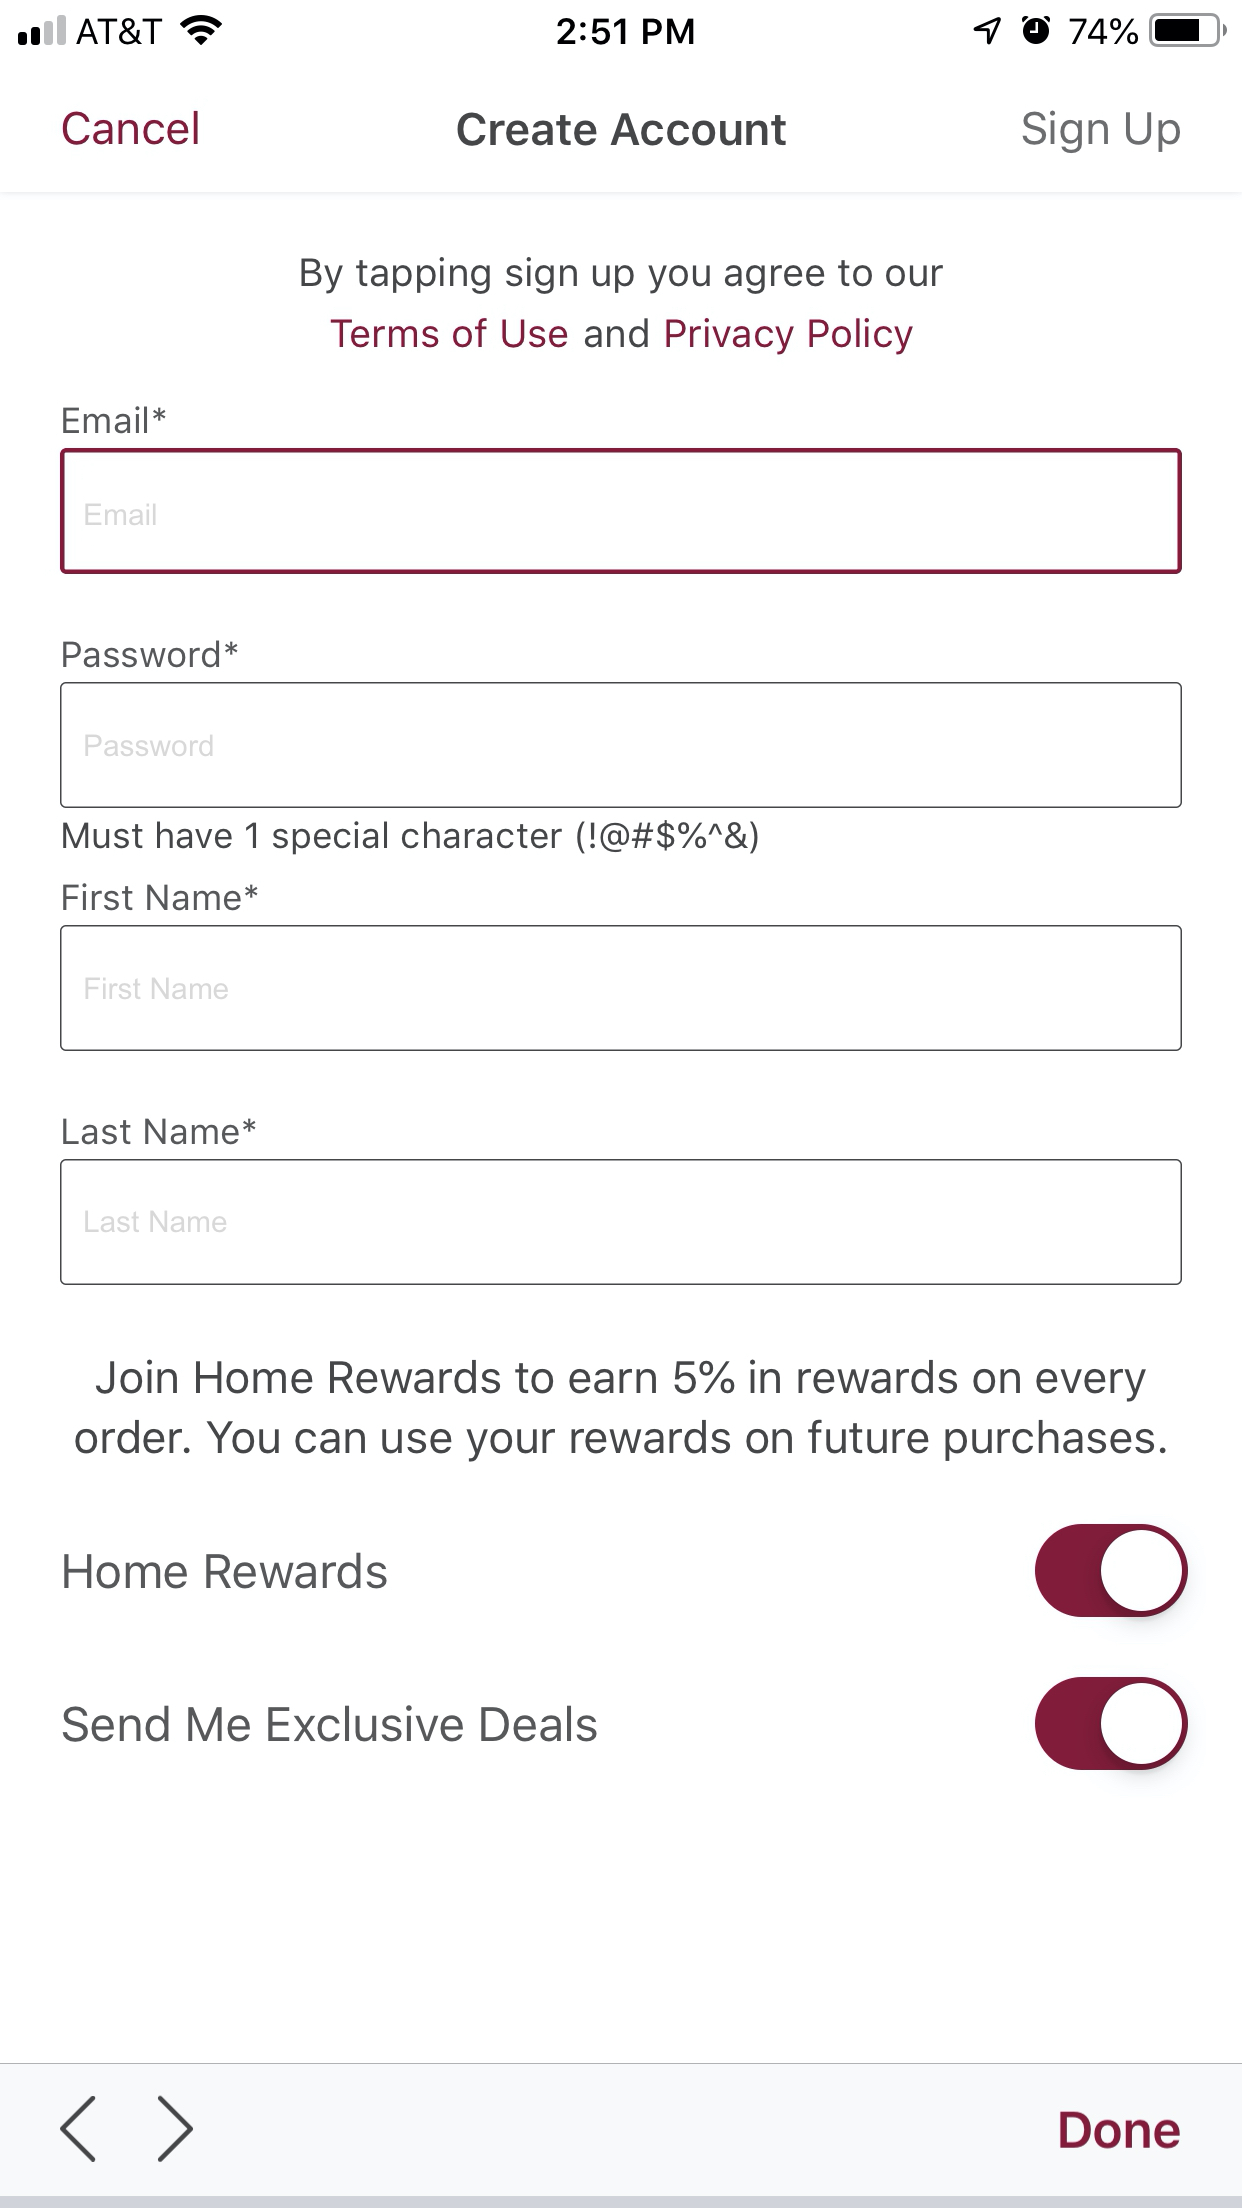EditText: (61, 925, 1181, 1052), (61, 447, 1181, 575), (61, 1160, 1181, 1286), (61, 682, 1181, 808)
Icon: (158, 2094, 196, 2163), (61, 2094, 97, 2163)
Switch: (1034, 1523, 1189, 1620), (1034, 1677, 1189, 1771)
Text: (74, 1359, 1168, 1463), (300, 256, 945, 356), (64, 820, 760, 855), (64, 1705, 597, 1742), (64, 1551, 387, 1589), (456, 114, 787, 149), (1022, 111, 1181, 155), (64, 883, 259, 911), (64, 1118, 256, 1145), (1060, 2109, 1181, 2150), (64, 641, 240, 669), (64, 111, 199, 146), (86, 977, 229, 999), (86, 1212, 227, 1234), (64, 406, 167, 435), (85, 734, 214, 757), (85, 503, 158, 528)
UpperTaskBar: (2, 2, 1242, 49)
